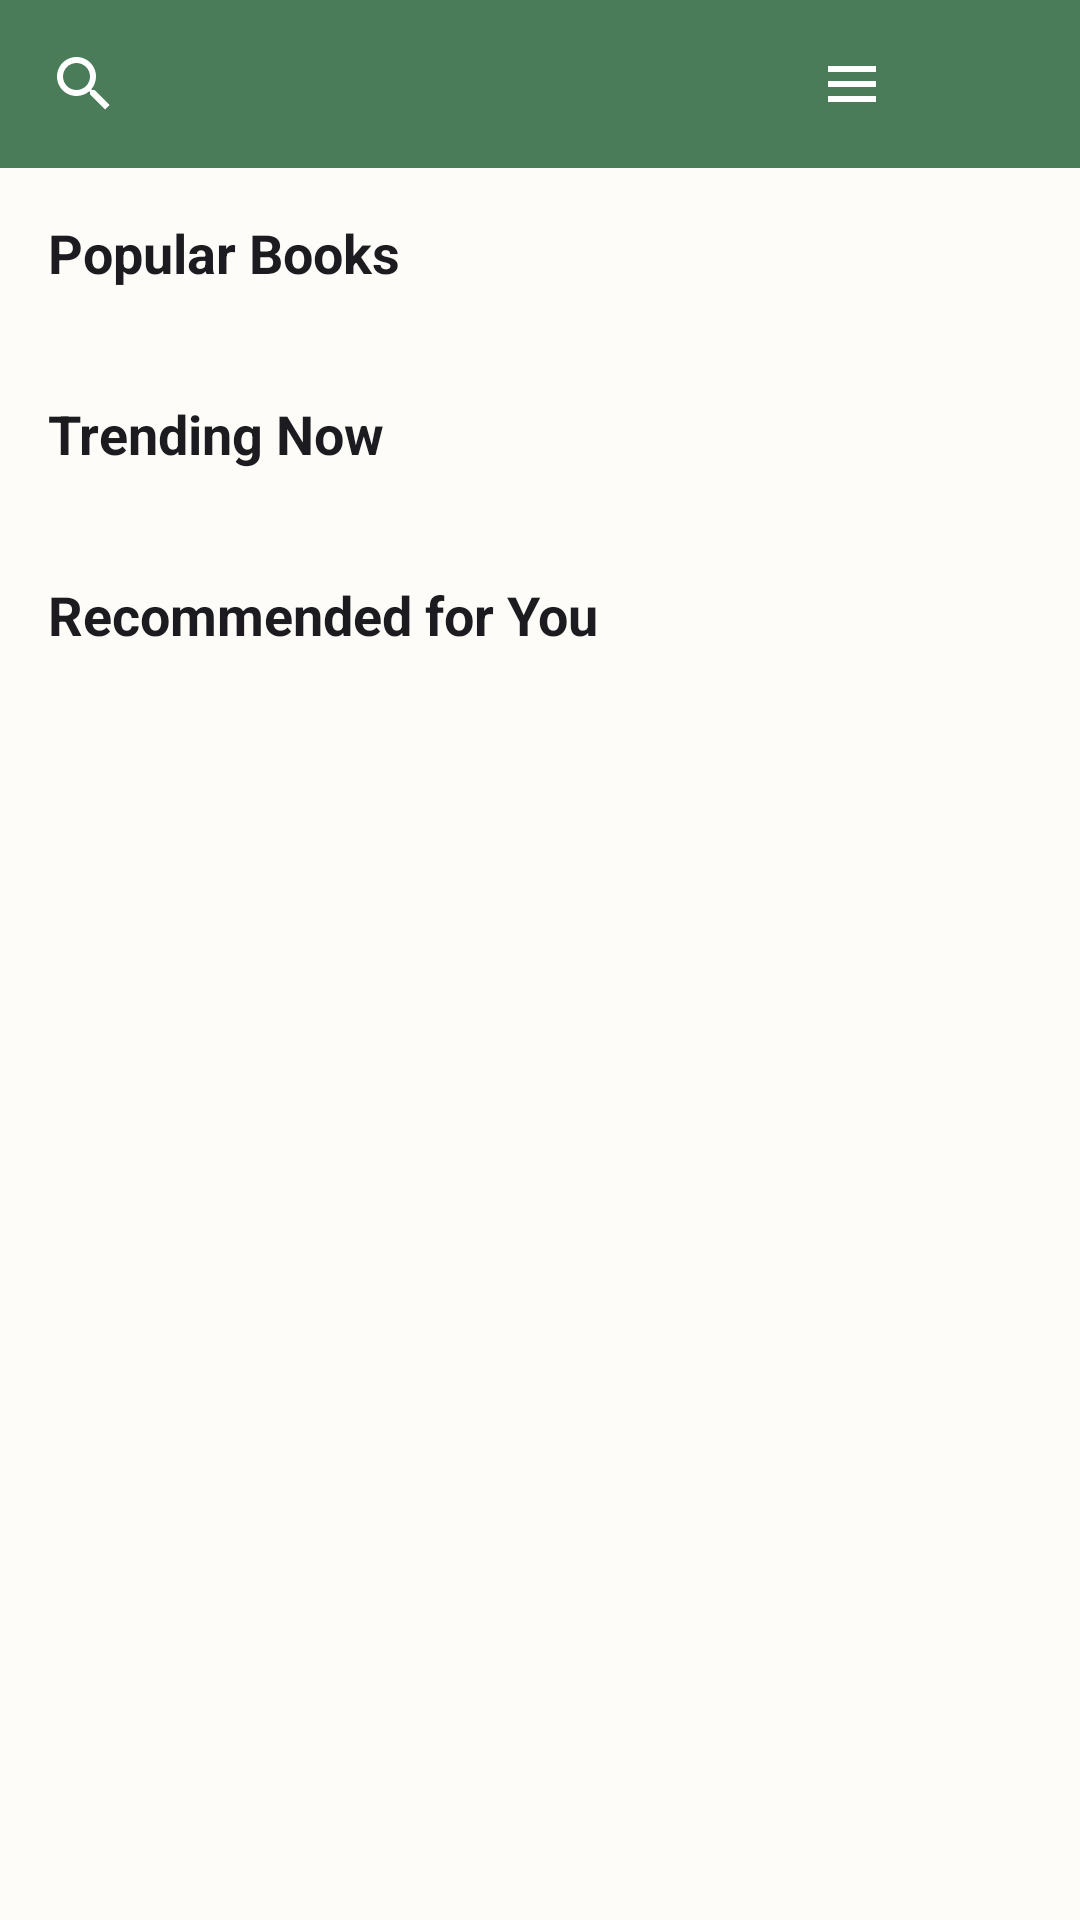

Icons on this 1080px x 1920px Android screen, each with the point to tap as [x,y]:
Search: [83,83]
